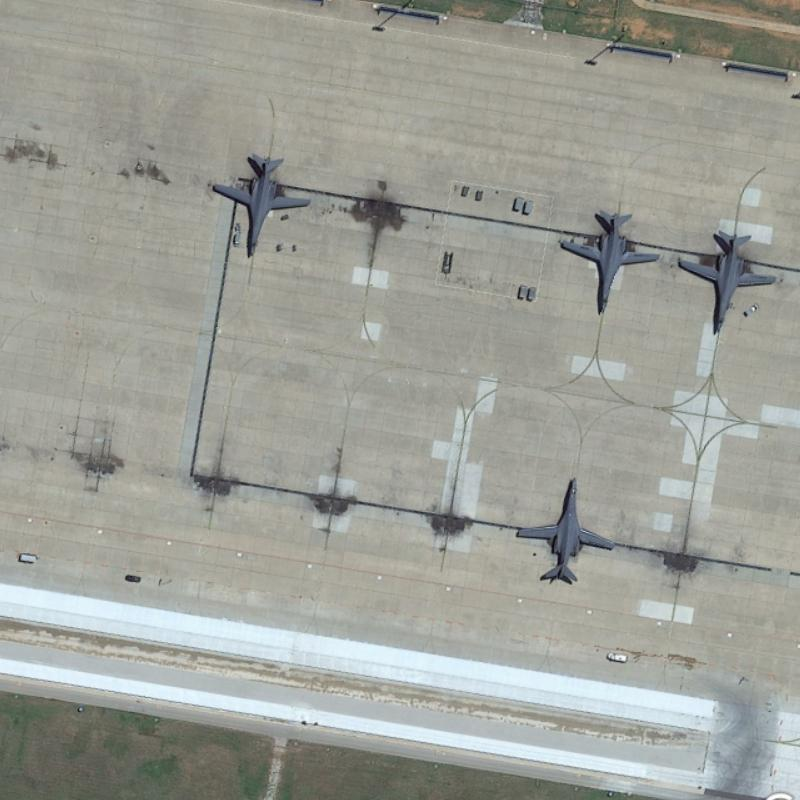A10: (507, 470, 619, 593), (553, 195, 664, 319), (203, 143, 315, 260), (674, 223, 782, 341)
